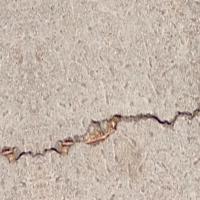crack: (0, 89, 199, 193)
